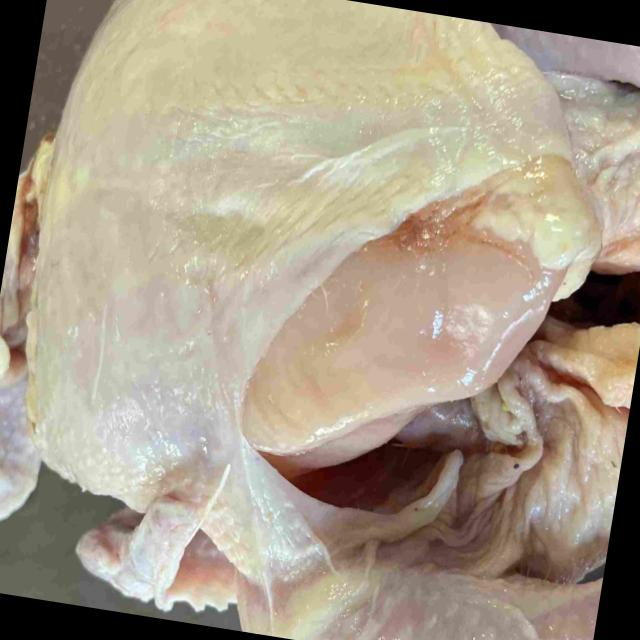breast: (30, 0, 587, 495)
leg: (233, 563, 602, 640)
neck: (0, 149, 41, 522)
wing: (81, 487, 232, 618)
